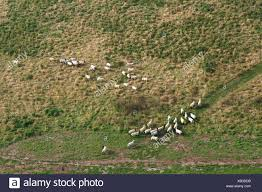sheep: (125, 139, 138, 149), (149, 135, 161, 144), (195, 95, 203, 108), (173, 126, 183, 136), (145, 117, 154, 127), (101, 65, 112, 73), (138, 124, 147, 133), (188, 99, 196, 109), (127, 126, 136, 134), (188, 111, 197, 119), (186, 115, 194, 124), (157, 124, 165, 133), (164, 117, 170, 128), (78, 57, 86, 65), (100, 144, 107, 153), (83, 73, 91, 80), (66, 60, 73, 68), (57, 57, 65, 64), (88, 64, 96, 71), (96, 75, 103, 83), (105, 61, 114, 67), (71, 59, 77, 66), (178, 107, 184, 114), (120, 70, 126, 76), (48, 56, 54, 61)
